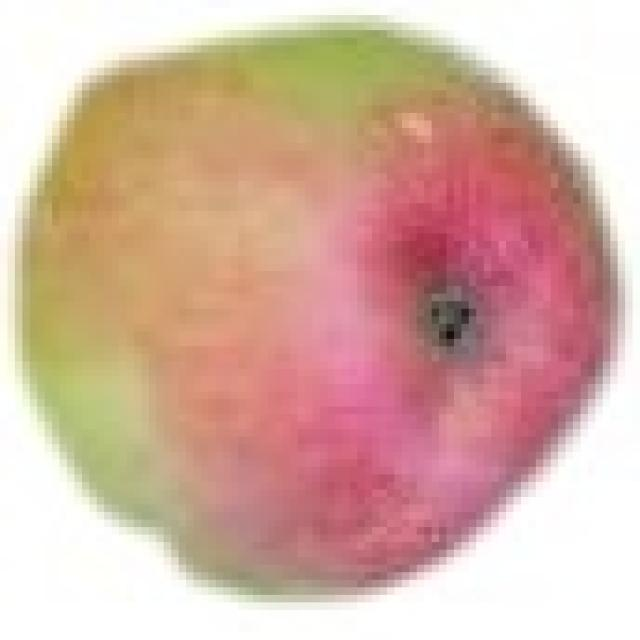75-_ripeness: (14, 19, 619, 600)
